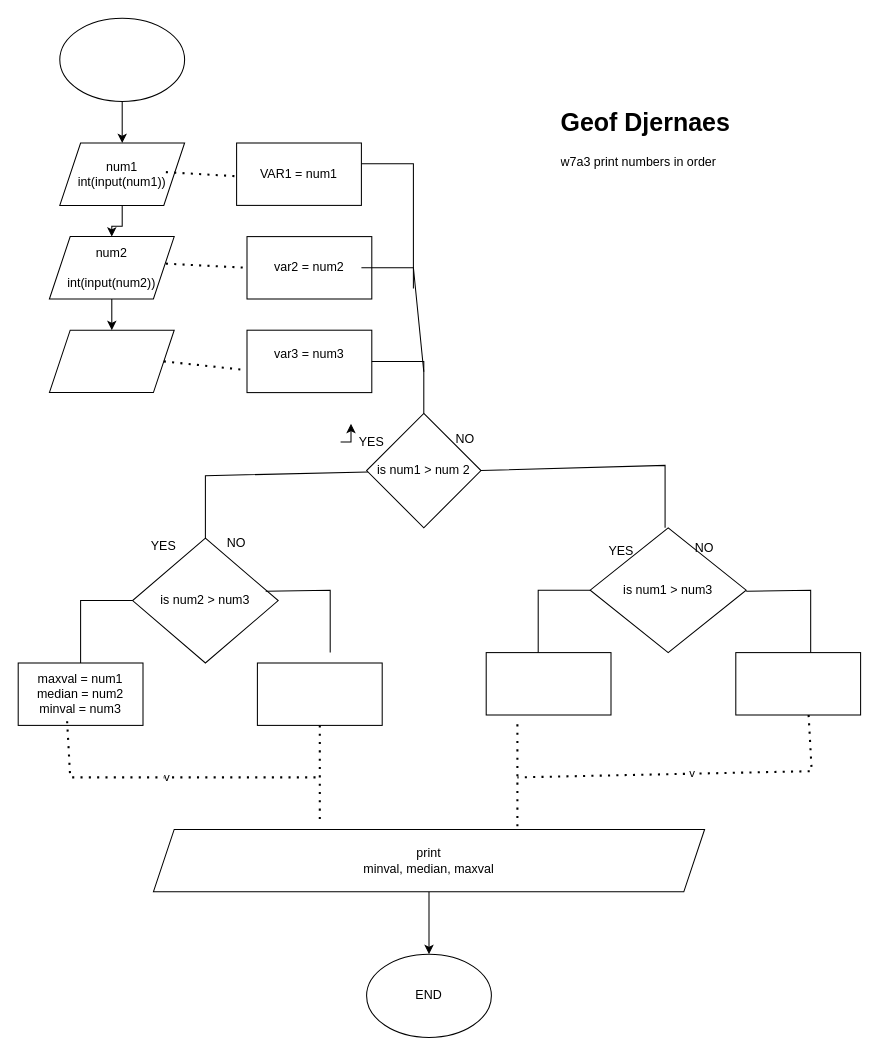
Image size: 879x1056. Some labels were removed from this diagram. Here are the shapes that lost their labels. From the top down, the box of each, then its label:
(59, 17, 185, 101): start
(48, 329, 174, 393): num3 int(input(num3))
(256, 662, 382, 725): maxval = num1 median = num3 minval = num2
(485, 652, 611, 715): maxval = num2 median = num1 minval = num3
(735, 652, 861, 715): maxval = num2 median = num3 minval = num1
